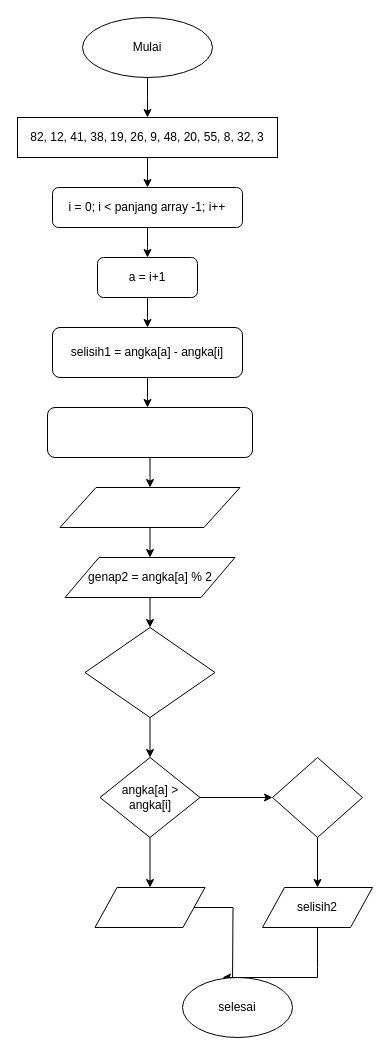
This 390x1055 diagram has some shape labels left out. Each missing label, with the centre of its shape:
"(genap1 == 0)&&(genap2 == 0)" goes at (149,672).
"angka[i] > angka[a]" goes at (317,797).
"genap1 = angka[i] % 2" goes at (149,507).
"selisih1" goes at (149,907).
"selisih2 = angka[i] - angka[a]" goes at (149,432).
